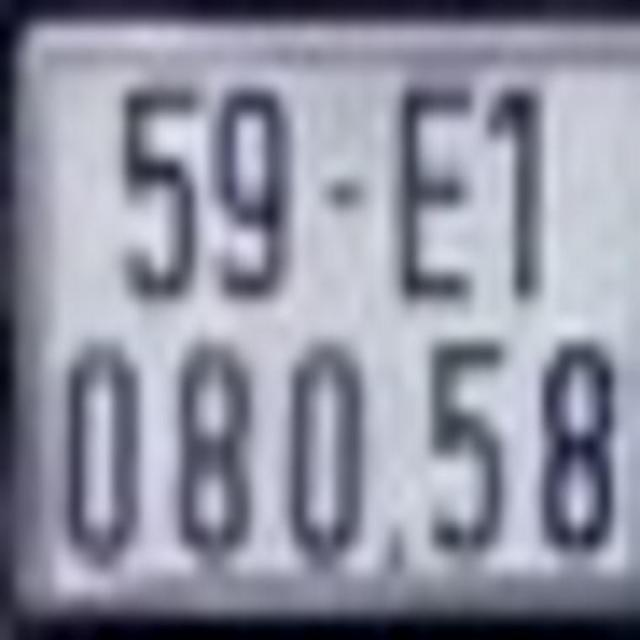0: (280, 328, 362, 577), (65, 332, 139, 570)
1: (494, 83, 550, 295)
5: (114, 80, 200, 304), (426, 330, 499, 552)
8: (166, 332, 261, 562), (532, 330, 616, 556)
9: (204, 78, 288, 300)
E: (394, 79, 484, 304)
